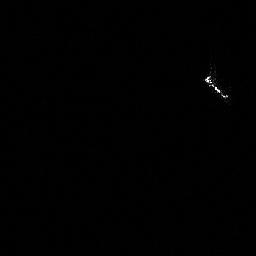ship: (200, 73, 230, 100)
